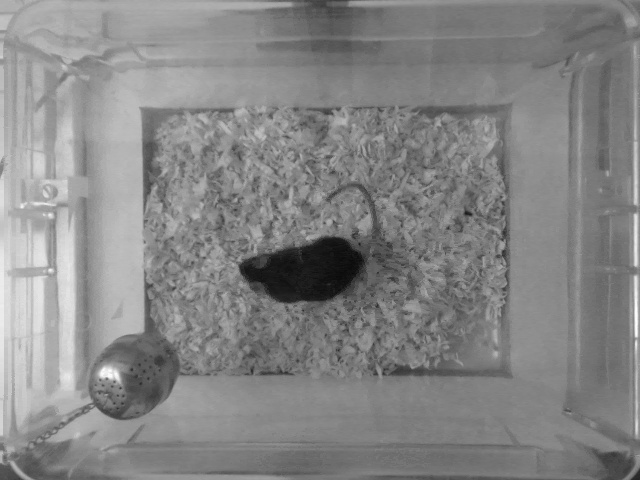mice: (239, 180, 378, 301)
